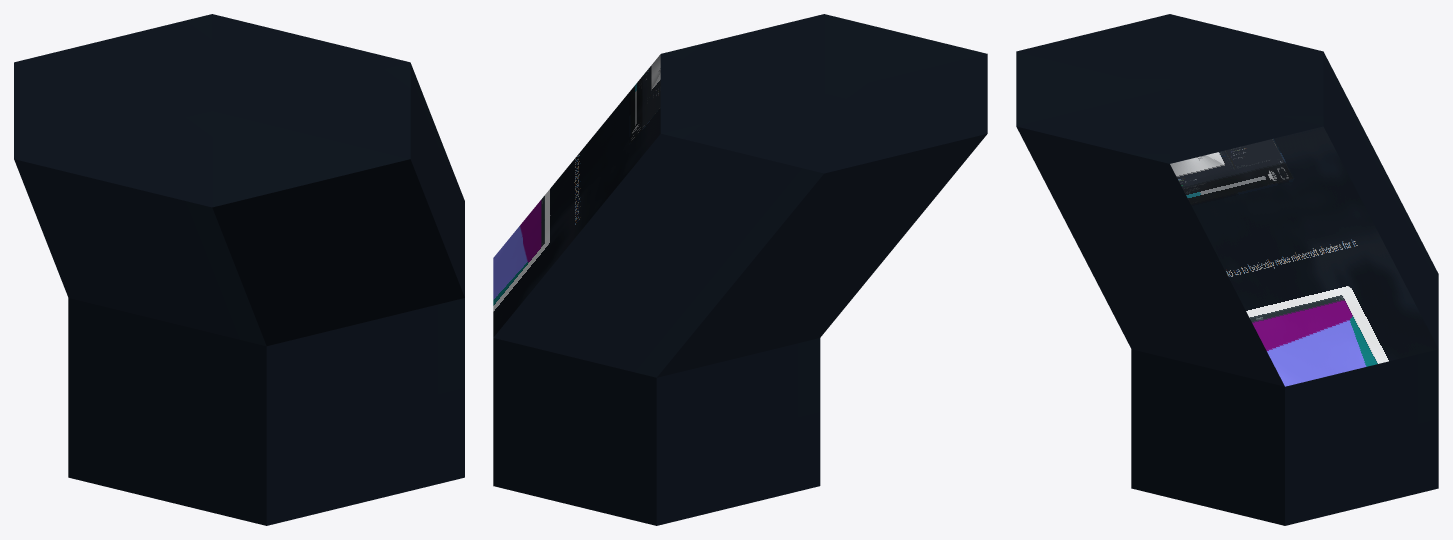
File: thingy.gltf
3 renders of one model, left to right at view 1: azimuth 30°, elevation 25°; view 2: azimuth 150°, elevation 25°; view 3: azimuth 270°, elevation 25°, orthographic. The views are drawn at different scales.
Visible parts, largest first — view 1: cylinder; view 2: cylinder; view 3: cylinder.
Boxes of the visible parts, <box> form: cylinder: <box>14,14,464,525</box>; cylinder: <box>493,14,987,525</box>; cylinder: <box>1016,14,1438,525</box>.
Bounding box in the file's own units: 0.7649 × 0.5625 × 0.6875.
2 materials, 1 textured.
